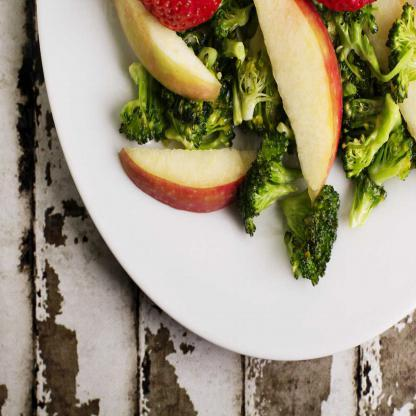broccoli: (113, 0, 415, 286)
